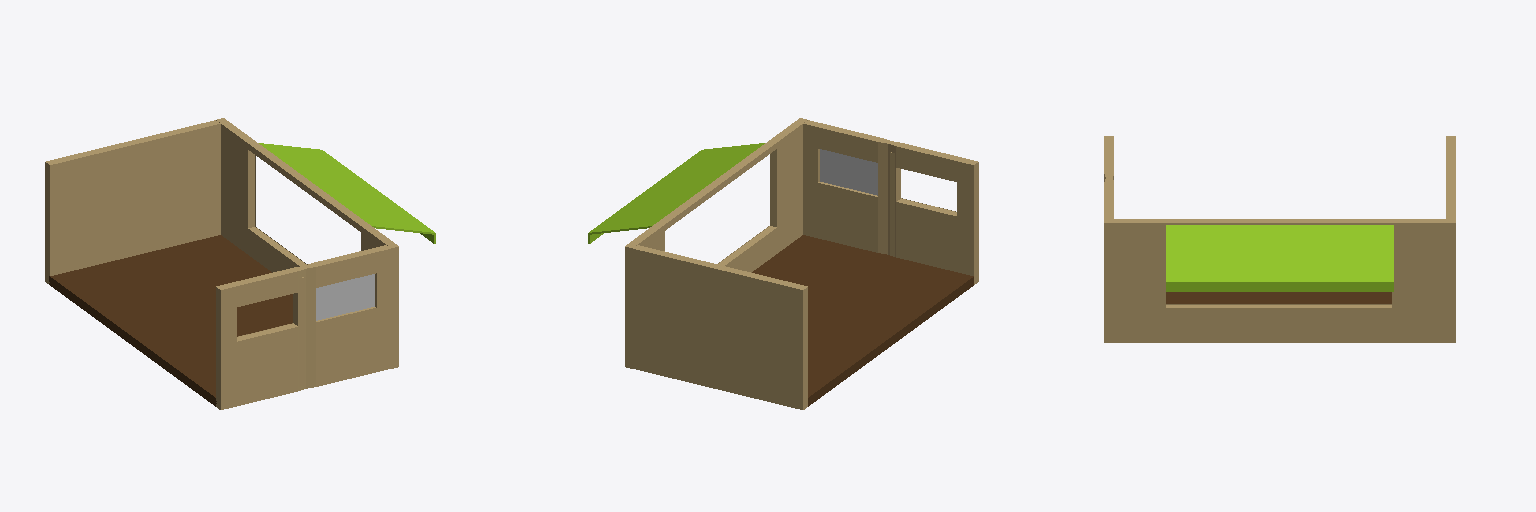
3 renders of one model, left to right at view 1: azimuth 30°, elevation 25°; view 2: azimuth 150°, elevation 25°; view 3: azimuth 270°, elevation 25°, orthographic.
Visible parts, largest first — view 1: Cube.017, Cube.015, Cube.018, Cube.013; view 2: Cube.017, Cube.015, Cube.018, Cube.013; view 3: Cube.017, Cube.018, Cube.015.
Boxes of the visible parts, <box> form: Cube.017: <box>45,118,398,409</box>; Cube.015: <box>49,235,292,406</box>; Cube.018: <box>259,143,435,243</box>; Cube.013: <box>316,274,374,320</box>; Cube.017: <box>625,118,978,409</box>; Cube.015: <box>752,235,973,406</box>; Cube.018: <box>588,143,764,243</box>; Cube.013: <box>820,149,877,195</box>; Cube.017: <box>1104,136,1455,342</box>; Cube.018: <box>1166,225,1393,291</box>; Cube.015: <box>1166,292,1391,303</box>.
Bounding box in the file's own units: 28.17 × 13.2 × 34.8.
4 materials, 3 textured.